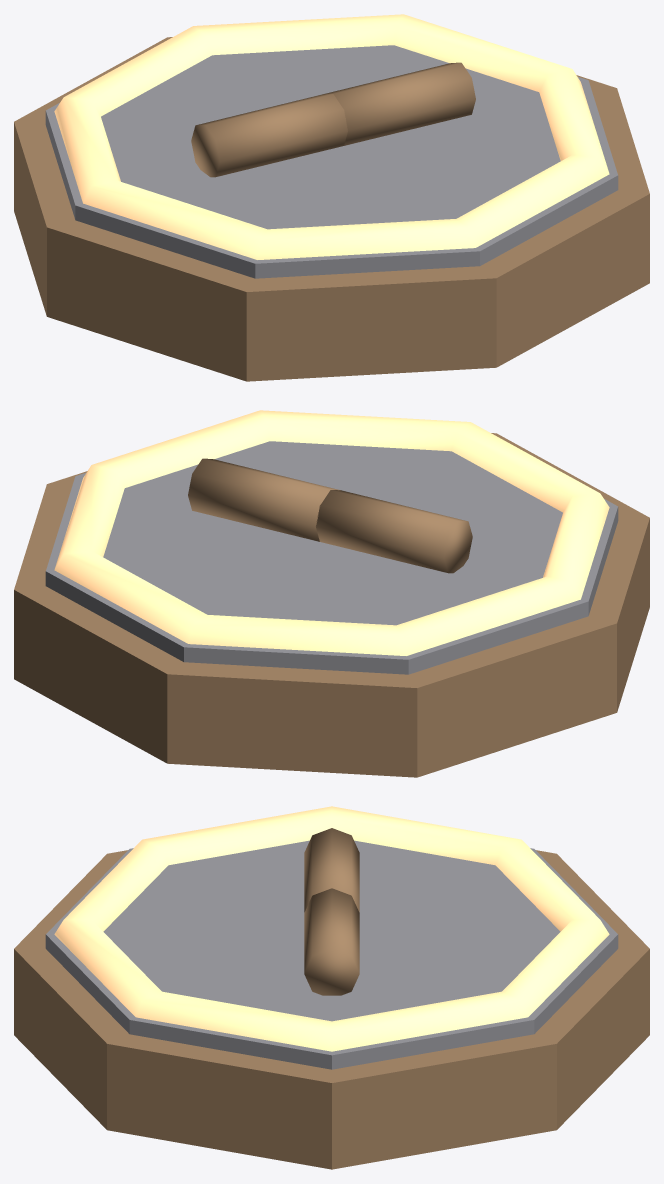
File: Gimmick_BridgeSustainPad.fbx
3 views of the same model, one above another, from view 1: azimuth 30°, elevation 25°; view 2: azimuth 150°, elevation 25°; view 3: azimuth 270°, elevation 25° (orthographic). The views are drawn at different scales.
Parts seen in each view (by area): view 1: Gimmick_BridgeSustainPad_Base, Gimmick_BridgeSustainPad_MetalCap, Gimmick_BridgeSustainPad_Ring, Gimmick_BridgeSustainPad; view 2: Gimmick_BridgeSustainPad_Base, Gimmick_BridgeSustainPad_MetalCap, Gimmick_BridgeSustainPad_Ring, Gimmick_BridgeSustainPad; view 3: Gimmick_BridgeSustainPad_Base, Gimmick_BridgeSustainPad_MetalCap, Gimmick_BridgeSustainPad_Ring, Gimmick_BridgeSustainPad.
Boxes of the visible parts, box(x1,y1,x2,y2) form: Gimmick_BridgeSustainPad_Base: box(14, 37, 649, 381); Gimmick_BridgeSustainPad_MetalCap: box(45, 45, 618, 278); Gimmick_BridgeSustainPad_Ring: box(54, 14, 609, 259); Gimmick_BridgeSustainPad: box(191, 62, 475, 177); Gimmick_BridgeSustainPad_Base: box(14, 433, 649, 777); Gimmick_BridgeSustainPad_MetalCap: box(45, 441, 618, 674); Gimmick_BridgeSustainPad_Ring: box(54, 410, 609, 655); Gimmick_BridgeSustainPad: box(188, 458, 472, 573); Gimmick_BridgeSustainPad_Base: box(14, 850, 649, 1169); Gimmick_BridgeSustainPad_MetalCap: box(45, 840, 618, 1069); Gimmick_BridgeSustainPad_Ring: box(54, 806, 609, 1051); Gimmick_BridgeSustainPad: box(304, 828, 359, 995).
Bounding box in the file's own units: 0.8 × 0.205 × 0.8.
